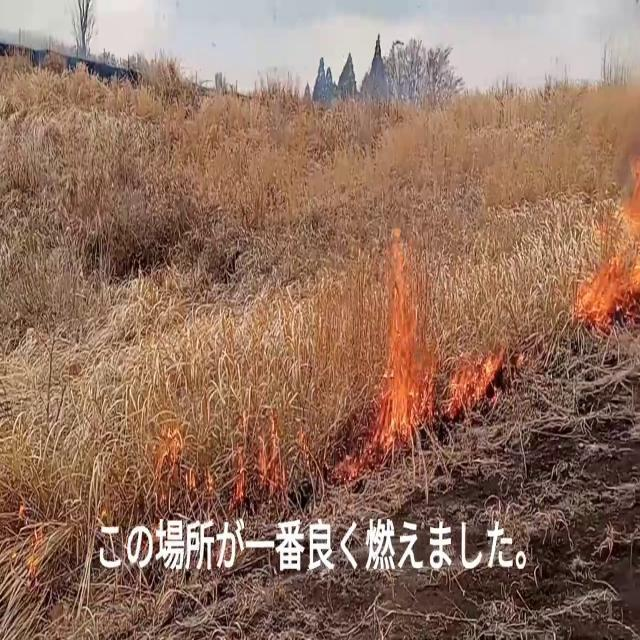Fire: (370, 205, 440, 440), (575, 134, 640, 326), (444, 317, 506, 412)
